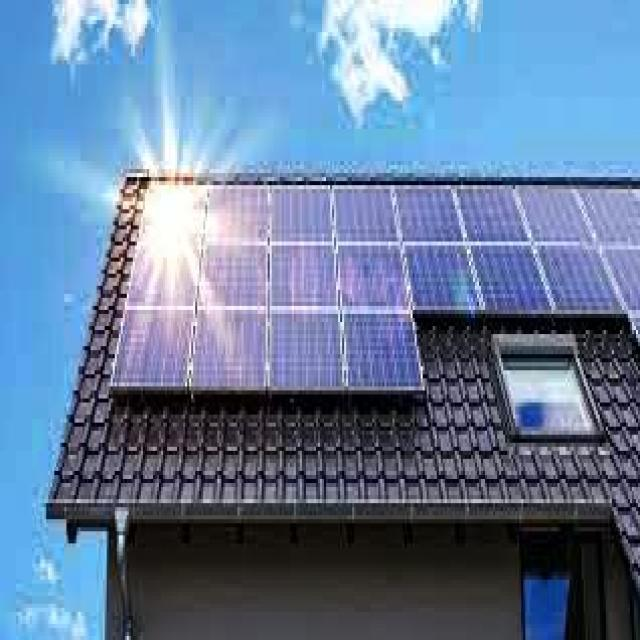no faulty: (344, 308, 427, 404), (260, 306, 346, 398), (116, 304, 194, 396), (192, 308, 269, 400), (476, 250, 554, 318), (410, 250, 486, 318), (556, 250, 625, 322), (524, 183, 599, 248), (268, 181, 338, 250), (452, 184, 528, 244), (199, 182, 274, 242), (340, 183, 403, 248), (407, 183, 468, 248), (195, 253, 268, 302), (272, 255, 342, 300), (343, 255, 406, 304)
